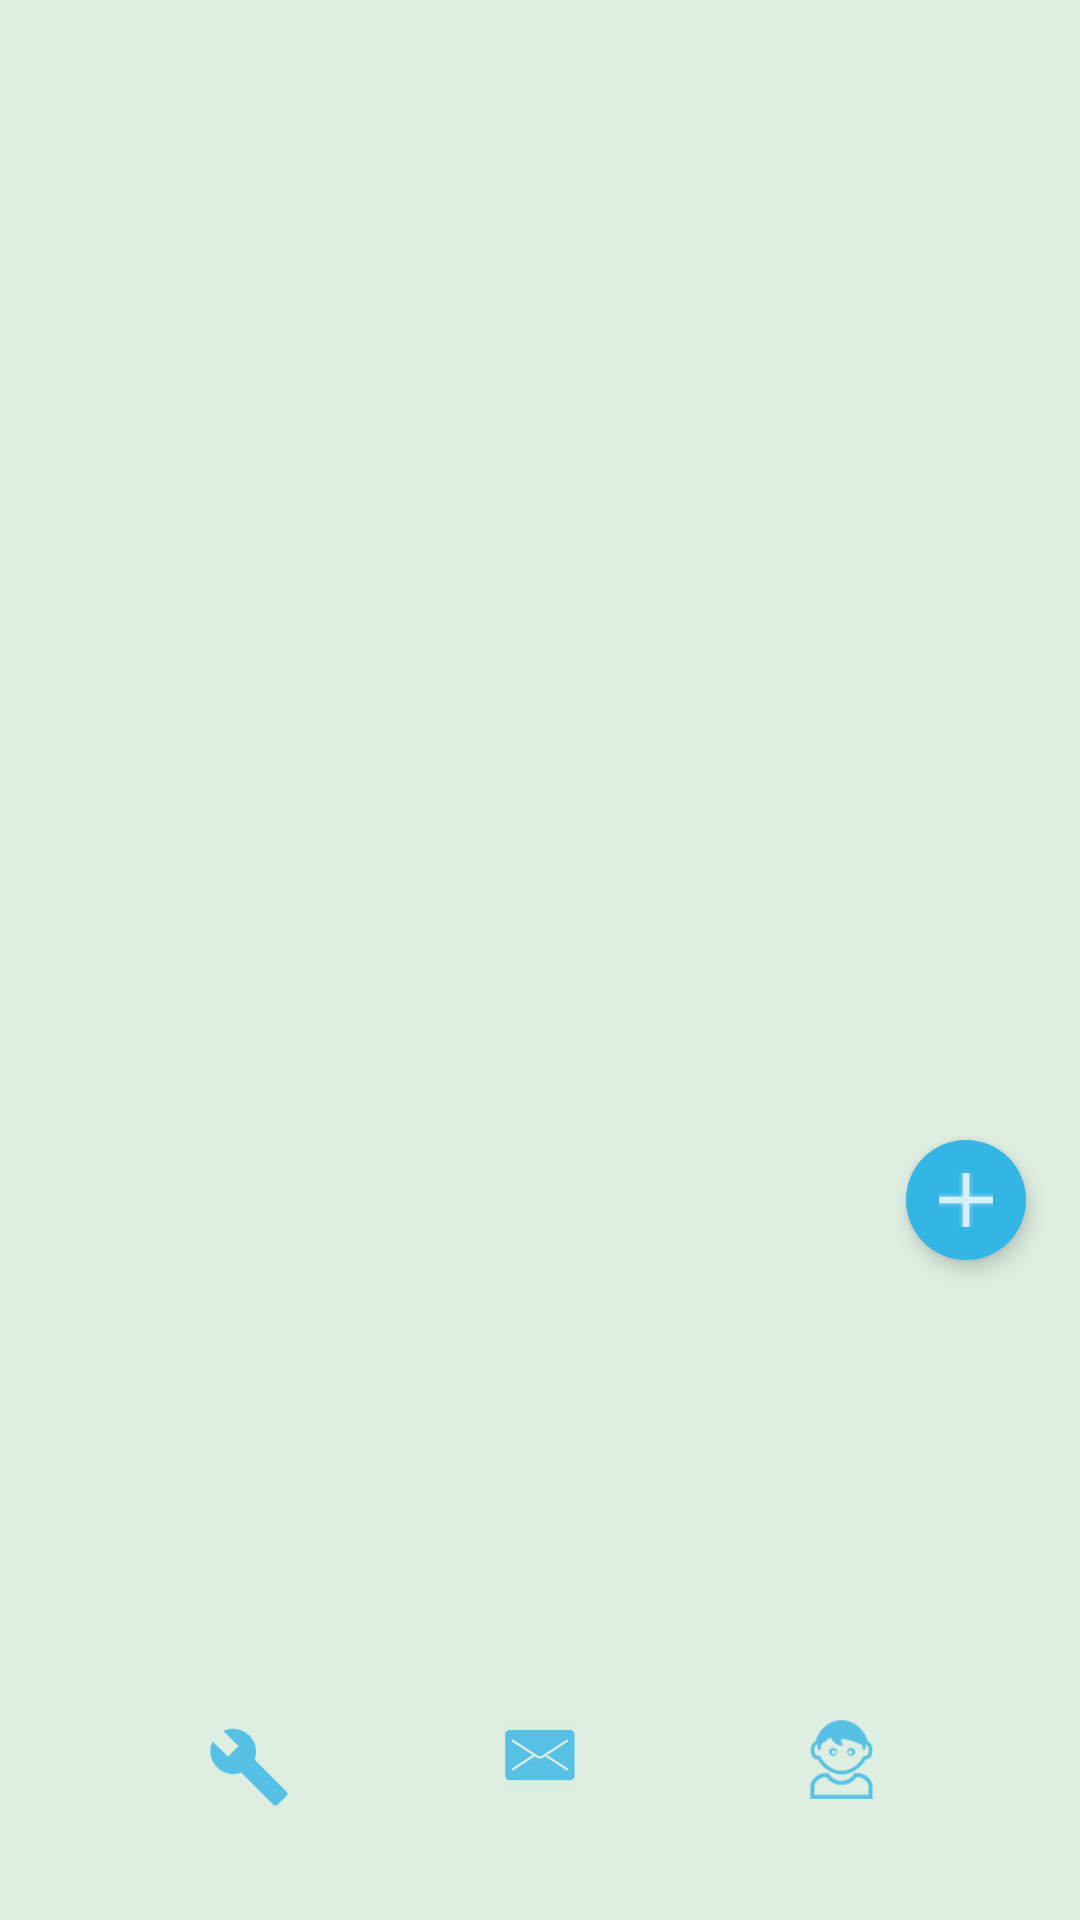

Named icons in this screenshot (1080 x 1920) and their centers, [x,y]:
plus: [966,1200]
Show Messages: [540,1755]
User: [841,1759]
